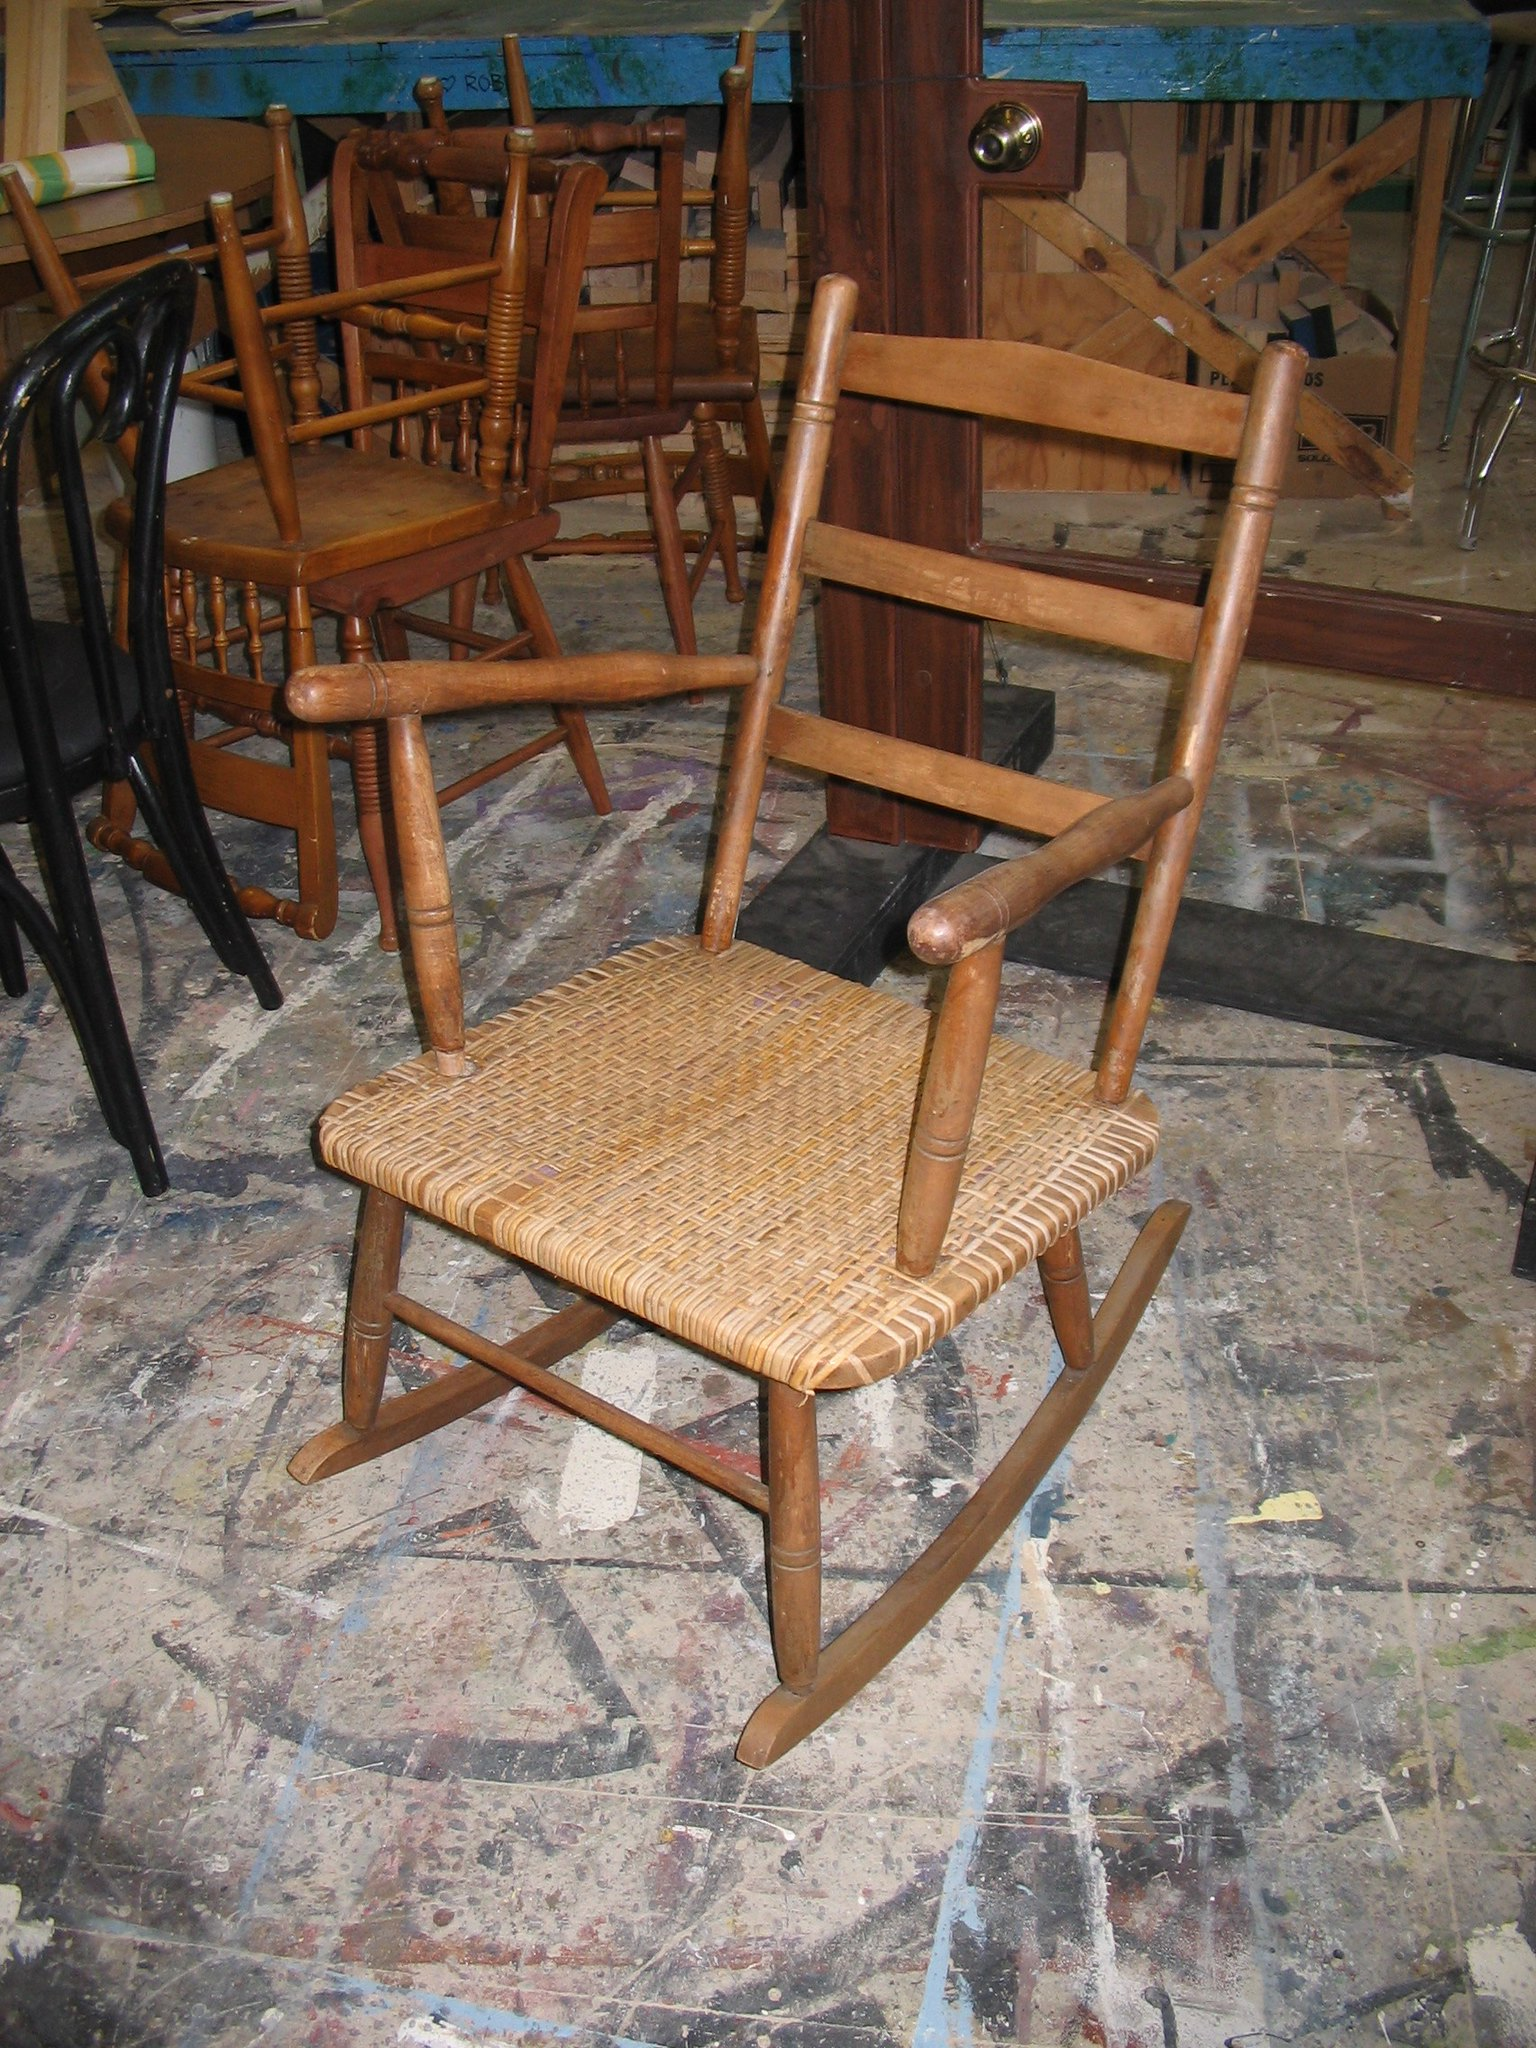chair: (269, 313, 1347, 1766), (144, 156, 550, 963)
